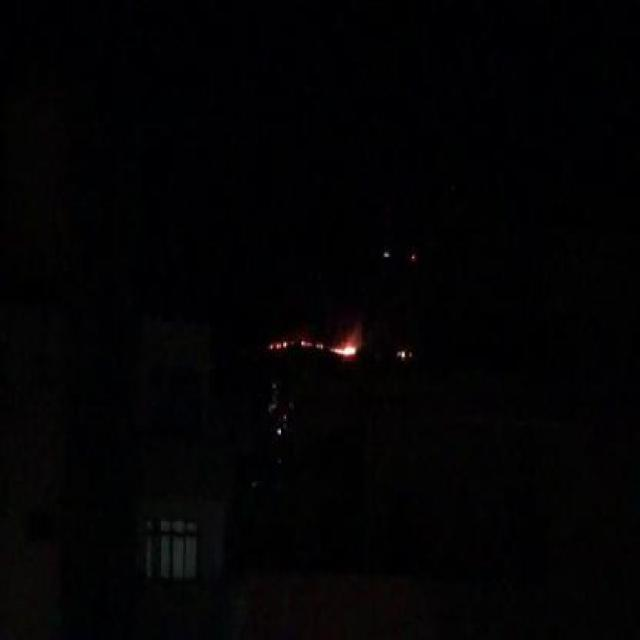Fire: (333, 343, 355, 357), (269, 338, 288, 349), (300, 340, 312, 348), (314, 342, 322, 350)
